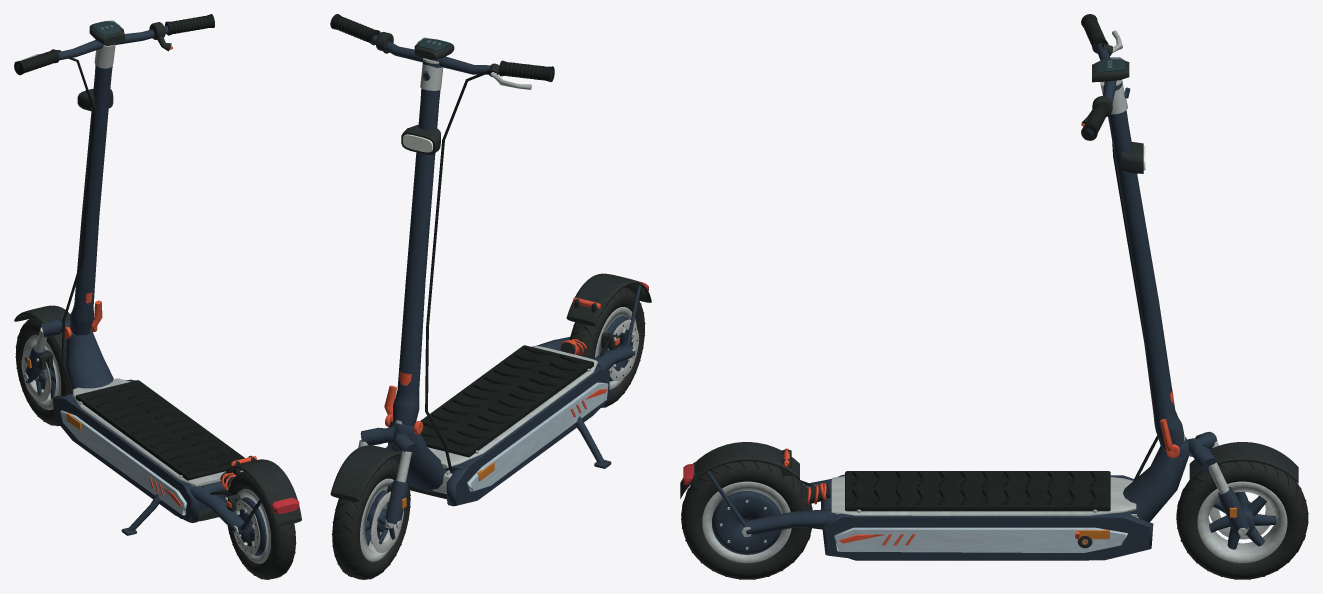
Rendered from StrideC10-game.glb.
3 renders of one model, left to right at view 1: azimuth 30°, elevation 25°; view 2: azimuth 150°, elevation 25°; view 3: azimuth 270°, elevation 25°, orthographic. The views are drawn at different scales.
Visible parts, largest first — view 1: Floorboard, DeckFrame, SteeringStem, RearTire, RearFender, HeadTube, FrontTire, RearSwingarm, WiringHarness, FrontFender, Handlebar, FrontRim (+10 smaller); view 2: Floorboard, SteeringStem, DeckFrame, FrontTire, RearTire, RearFender, FrontFender, HeadTube, WiringHarness, FrontRim, ForkSlider_L, Handlebar (+11 smaller); view 3: DeckFrame, Floorboard, SteeringStem, FrontTire, RearTire, FrontRim, RearHubMotor, HeadTube, RearFender, RearRim, FrontFender, RearSwingarm (+3 smaller).
Part boxes in pixels (left/top/right/bottom): Floorboard: left=73, top=378, right=244, bottom=486; DeckFrame: left=53, top=379, right=227, bottom=522; SteeringStem: left=70, top=44, right=115, bottom=335; RearTire: left=225, top=471, right=296, bottom=579; RearFender: left=226, top=459, right=301, bottom=530; HeadTube: left=65, top=331, right=113, bottom=389; FrontTire: left=15, top=317, right=71, bottom=426; RearSwingarm: left=190, top=481, right=248, bottom=535; WiringHarness: left=61, top=58, right=95, bottom=393; FrontFender: left=14, top=305, right=70, bottom=352; Handlebar: left=16, top=25, right=168, bottom=69; FrontRim: left=23, top=335, right=60, bottom=409; Floorboard: left=420, top=345, right=597, bottom=468; SteeringStem: left=393, top=58, right=443, bottom=426; DeckFrame: left=386, top=366, right=610, bottom=506; FrontTire: left=331, top=458, right=410, bottom=579; RearTire: left=569, top=287, right=645, bottom=407; RearFender: left=566, top=273, right=651, bottom=345; FrontFender: left=330, top=445, right=401, bottom=502; HeadTube: left=387, top=433, right=446, bottom=492; WiringHarness: left=425, top=70, right=488, bottom=473; FrontRim: left=360, top=478, right=396, bottom=561; ForkSlider_L: left=386, top=450, right=411, bottom=528; Handlebar: left=372, top=35, right=552, bottom=77; DeckFrame: left=822, top=474, right=1153, bottom=560; Floorboard: left=831, top=471, right=1136, bottom=515; SteeringStem: left=1100, top=80, right=1184, bottom=448; FrontTire: left=1176, top=461, right=1308, bottom=579; RearTire: left=681, top=461, right=812, bottom=579; FrontRim: left=1197, top=481, right=1287, bottom=563; RearHubMotor: left=712, top=491, right=781, bottom=554; HeadTube: left=1123, top=446, right=1189, bottom=521; RearFender: left=680, top=442, right=799, bottom=527; RearRim: left=702, top=481, right=791, bottom=563; FrontFender: left=1189, top=442, right=1298, bottom=483; RearSwingarm: left=741, top=479, right=836, bottom=536.
Size of the model in its own units: 0.5063 by 1.08 by 1.19.
Materials: 13 (13 with a texture image).
